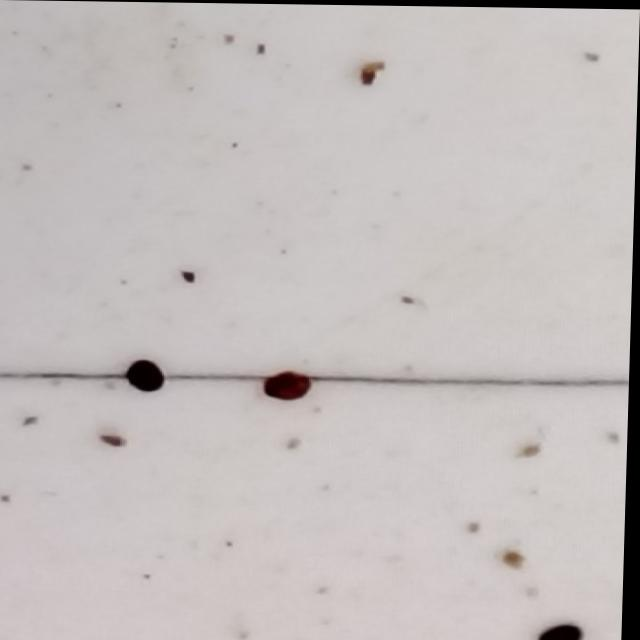varroa: (127, 360, 169, 396), (541, 621, 590, 640)
